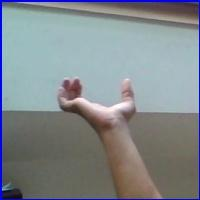B: (53, 71, 144, 127)
